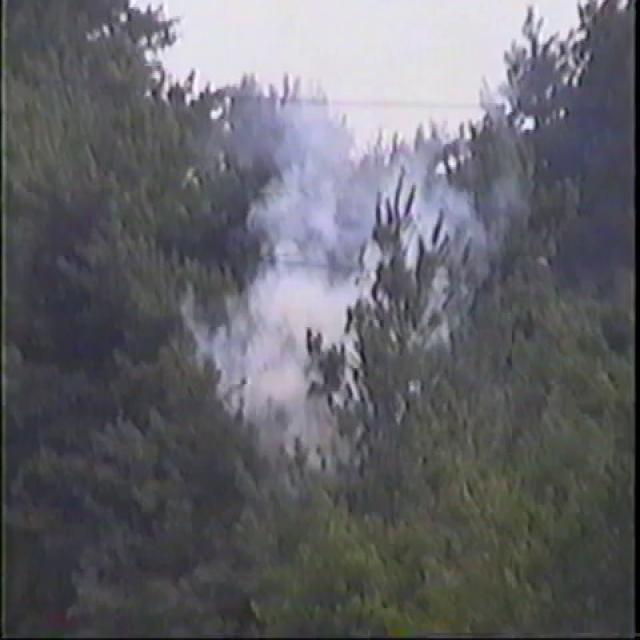Smoke: (200, 9, 484, 468)
